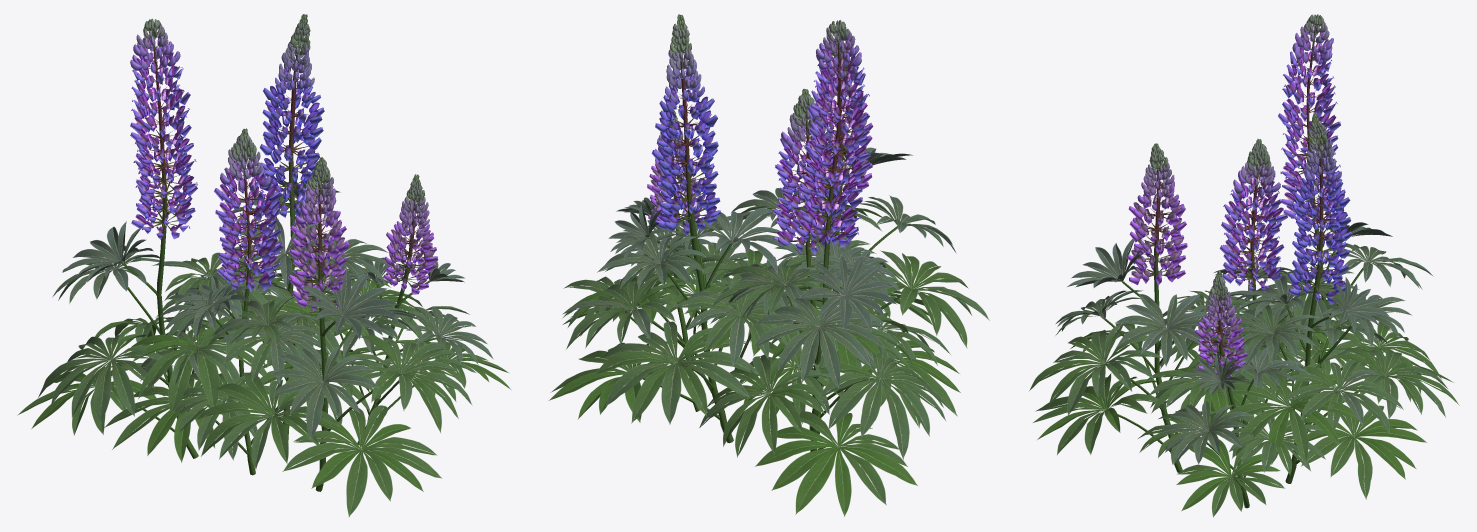
The model's file is lupine.glb.
The picture shows the model from 3 angles, left to right: view 1: azimuth 30°, elevation 25°; view 2: azimuth 150°, elevation 25°; view 3: azimuth 270°, elevation 25°; orthographic projection. The views are drawn at different scales.
Bounding box in the file's own units: 0.7703 × 0.8 × 0.7672.
34 materials, 34 textured.
